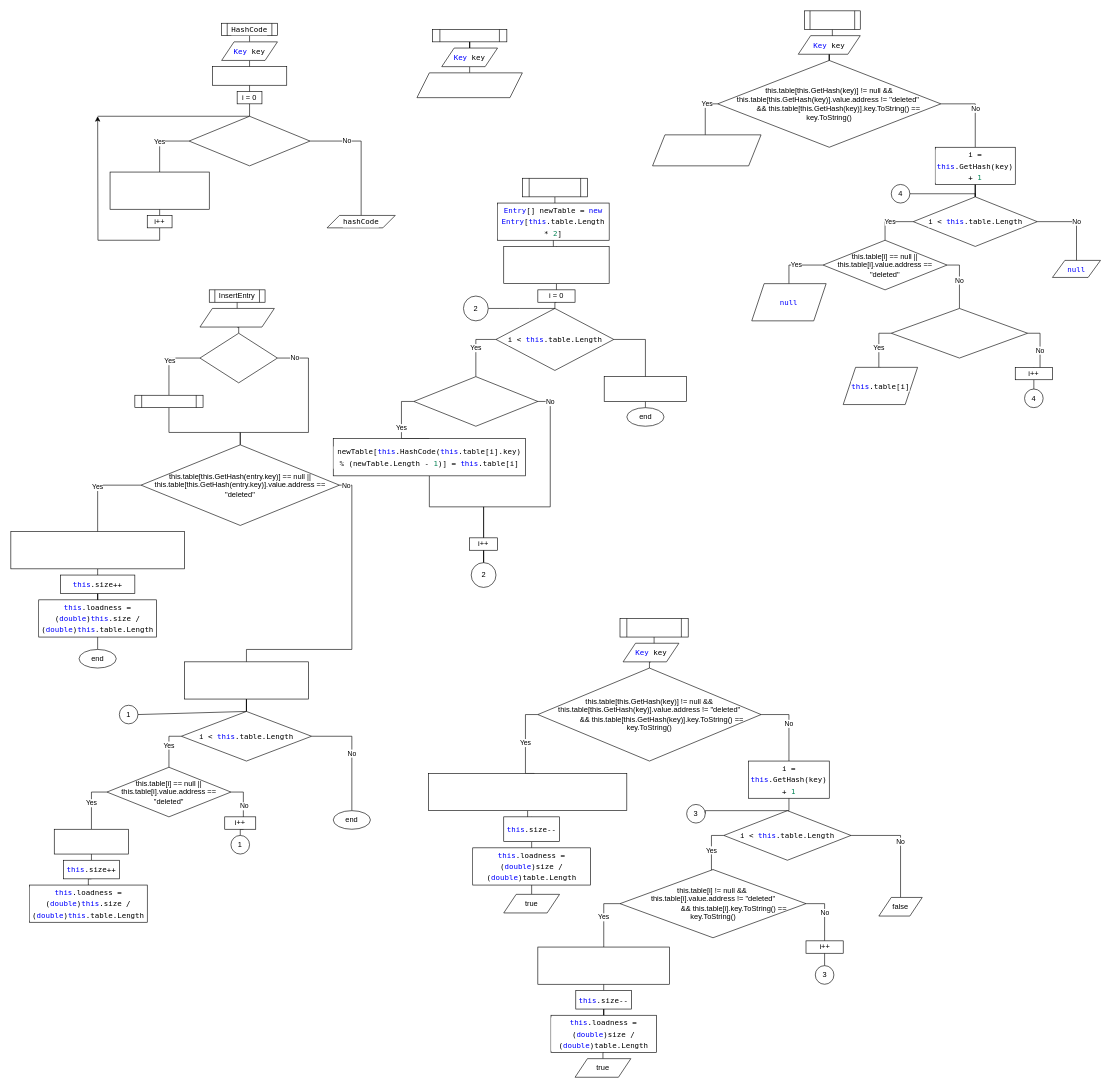
Image size: 1112x1088. Some labels were removed from this diagram. The shapes that lost their labels are listed below. From the top down, each one's centre as x and y in pixels, then its label:
(469,35): GetHash
(832,19): FindEntry
(249,75): int hashCode = 0
(469,85): this.HashCode(key) % (table.Length - 1)
(249,141): i < key.ToString()
(706,150): this .table [ this .GetHash(key)]
(159,190): hashCode = (( int )key.ToString()[i] * i) + hashCode
(554,187): Rehashing
(556,265): this .loadness = ( double ) this .size / ( double )newTable.Length
(236,317): Entry entry
(959,333): this.table[i].key.ToString() == key.ToString()
(238,358): this.loadness > 0.6
(168,401): Rehashing()
(475,401): this .table[i] != null
(645,388): this .table = newTable
(97,550): this .table[ this .GetHash(entry.key)] = entry
(653,627): RemoveEntry
(246,680): i = this .GetHash(entry.key) + 1
(527,792): this .table[ this .GetHash(key)].value.address = "deleted"
(91,841): this .table[i] = entry
(603,965): this .table[i].value.address = "deleted"
